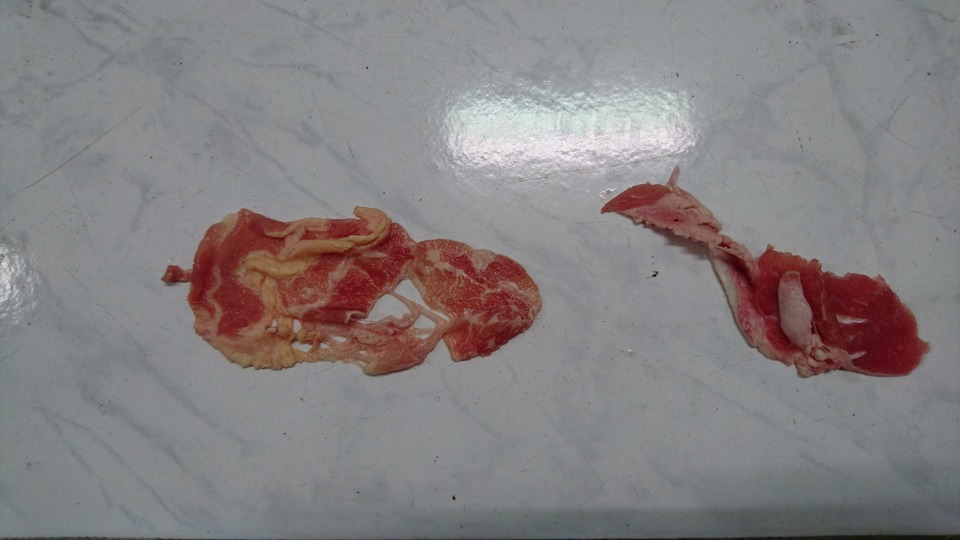restructured meat: (599, 156, 934, 396), (181, 204, 552, 383)
